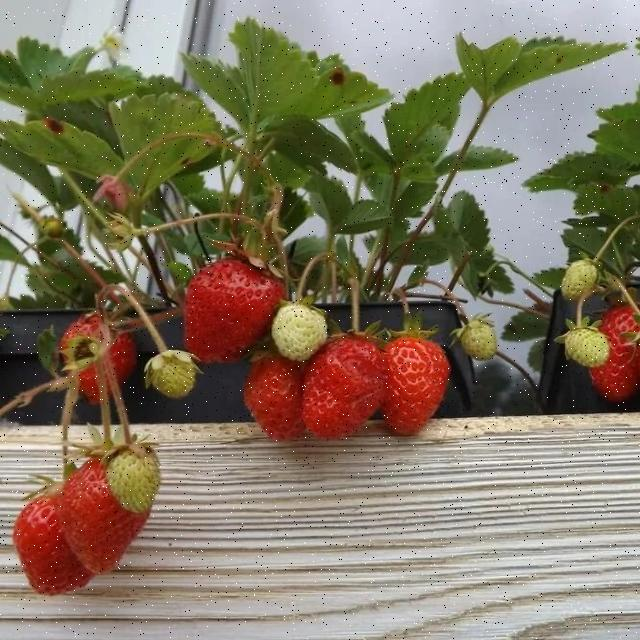Ripe Strawberry: (184, 262, 283, 362), (65, 458, 149, 572), (304, 338, 388, 438), (14, 498, 94, 596), (61, 317, 135, 403), (384, 337, 447, 433), (591, 307, 640, 398), (246, 360, 300, 438)
